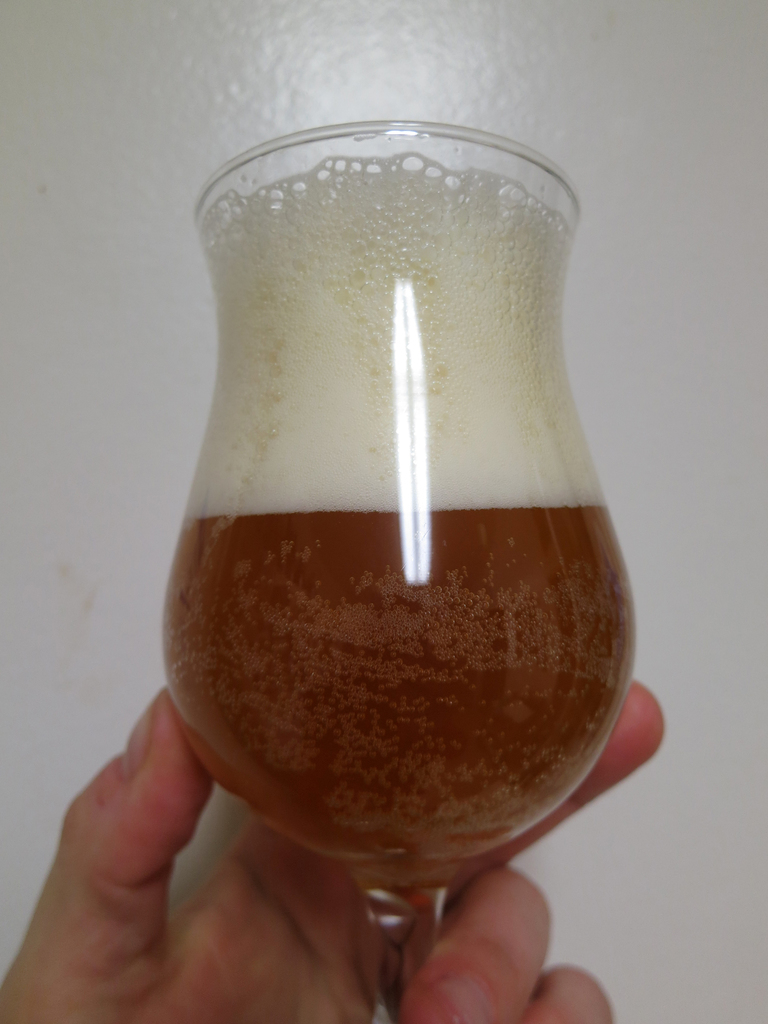Beer: (139, 113, 664, 1022)
